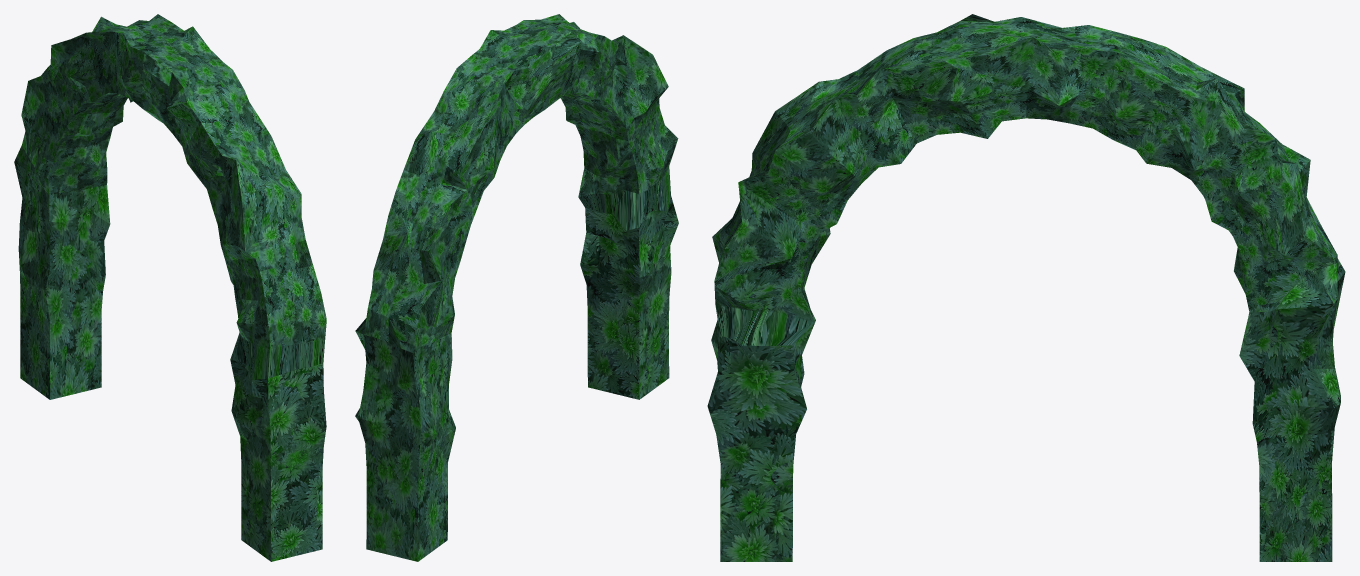
Rendered from kaari_isompi.fbx.
3 views of the same model, side by side, from view 1: azimuth 30°, elevation 25°; view 2: azimuth 150°, elevation 25°; view 3: azimuth 270°, elevation 25° (orthographic). The views are drawn at different scales.
Visible parts, largest first — view 1: Cube; view 2: Cube; view 3: Cube.
Part boxes in pixels (box(x1,y1,x2,y2)): Cube: box(14, 14, 326, 561); Cube: box(355, 14, 678, 561); Cube: box(707, 14, 1345, 561).
Bounding box in the file's own units: 345 × 1593 × 1758.
